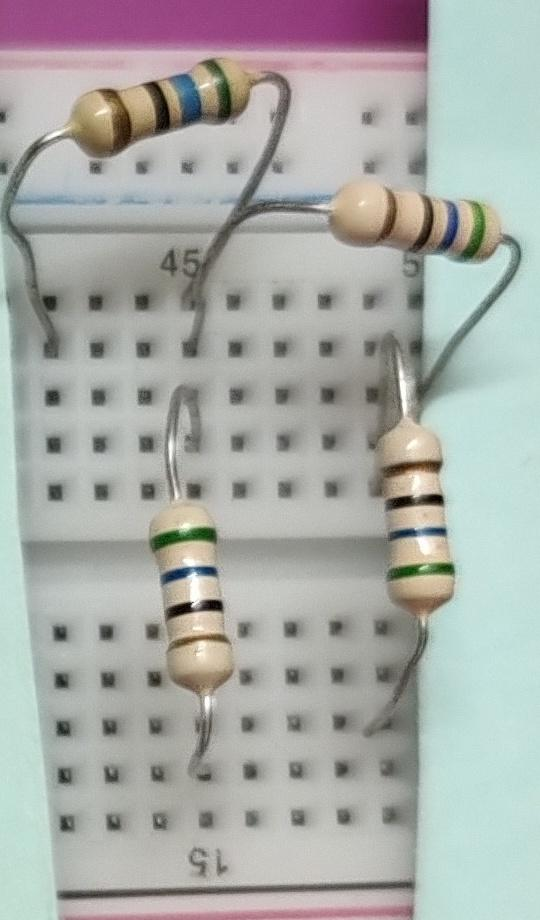resistor: (58, 40, 265, 185), (138, 490, 260, 700), (362, 398, 475, 620), (315, 168, 508, 280)
